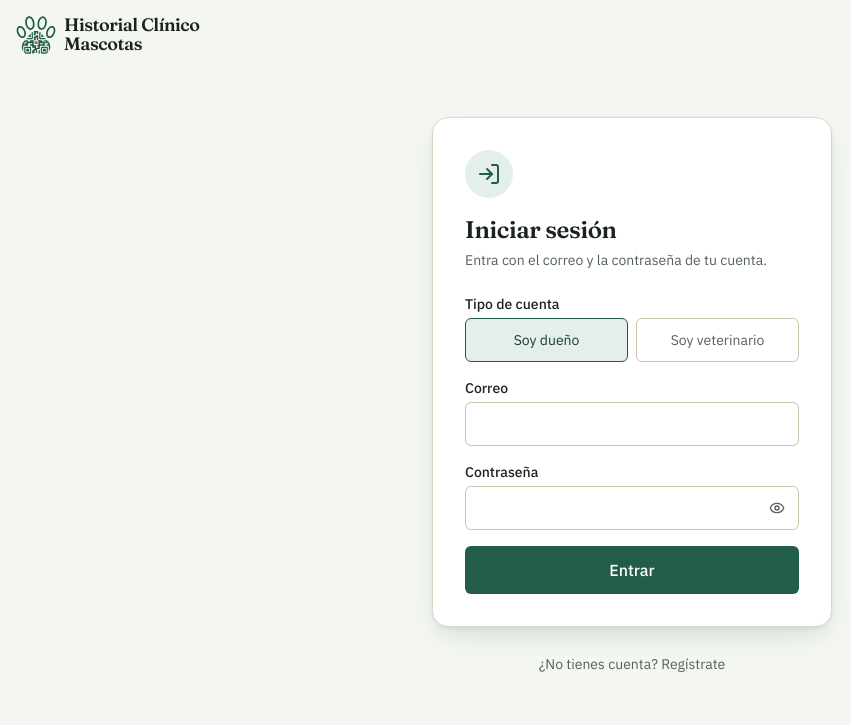
Test: PaginaInicioSesion (RNF 03 y 06) › con credenciales malas muestra el error y no guarda sesión
Type "ana@example.com" into the field labelled "Correo" at [632, 424], box [465,402,799,446]
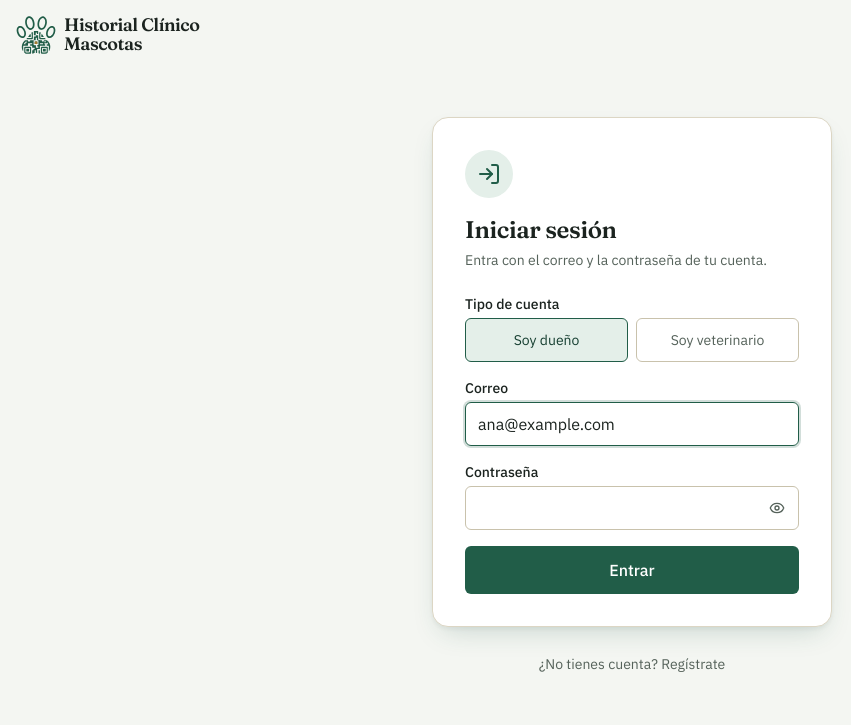
Type "mala" into the password field labelled "Contraseña" at [632, 508], box [465,486,799,530]
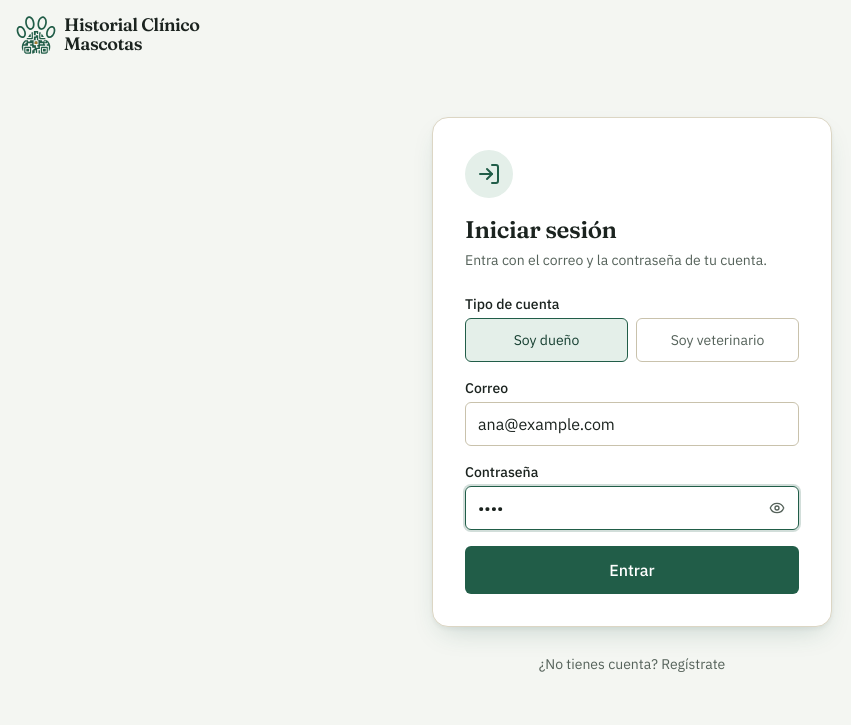
Click the button "Entrar" at [632, 570], box [465,546,799,594]
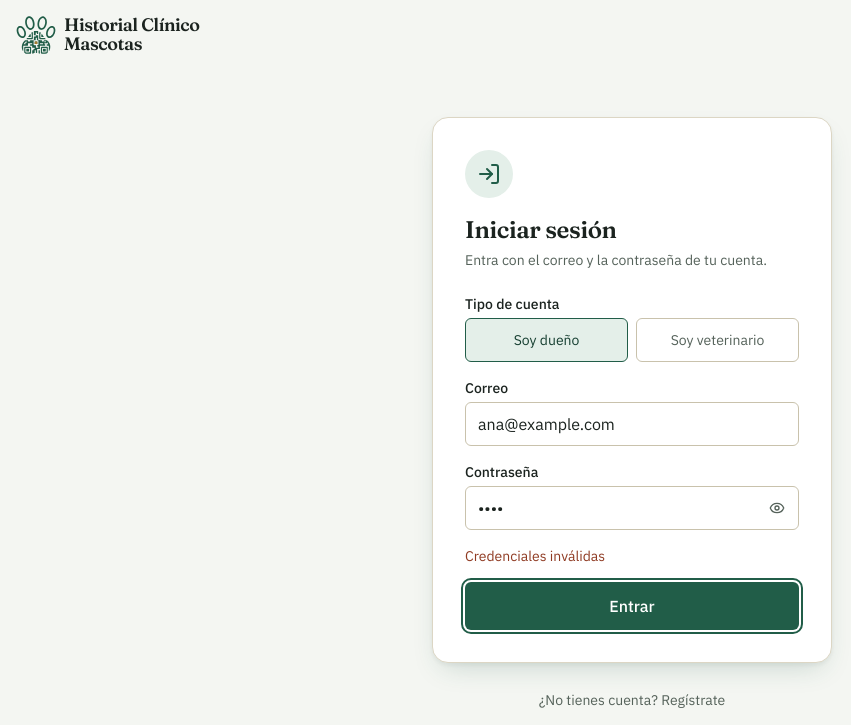
Expected: the message reads "Credenciales inválidas", [465,547,605,565]
